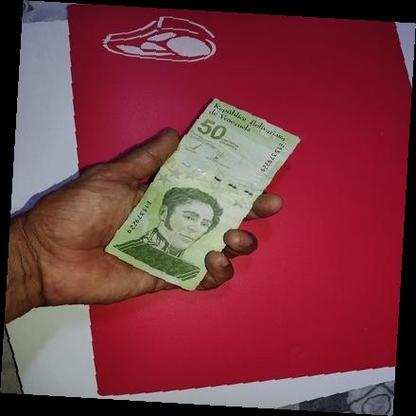vef_front: (103, 98, 301, 292)
